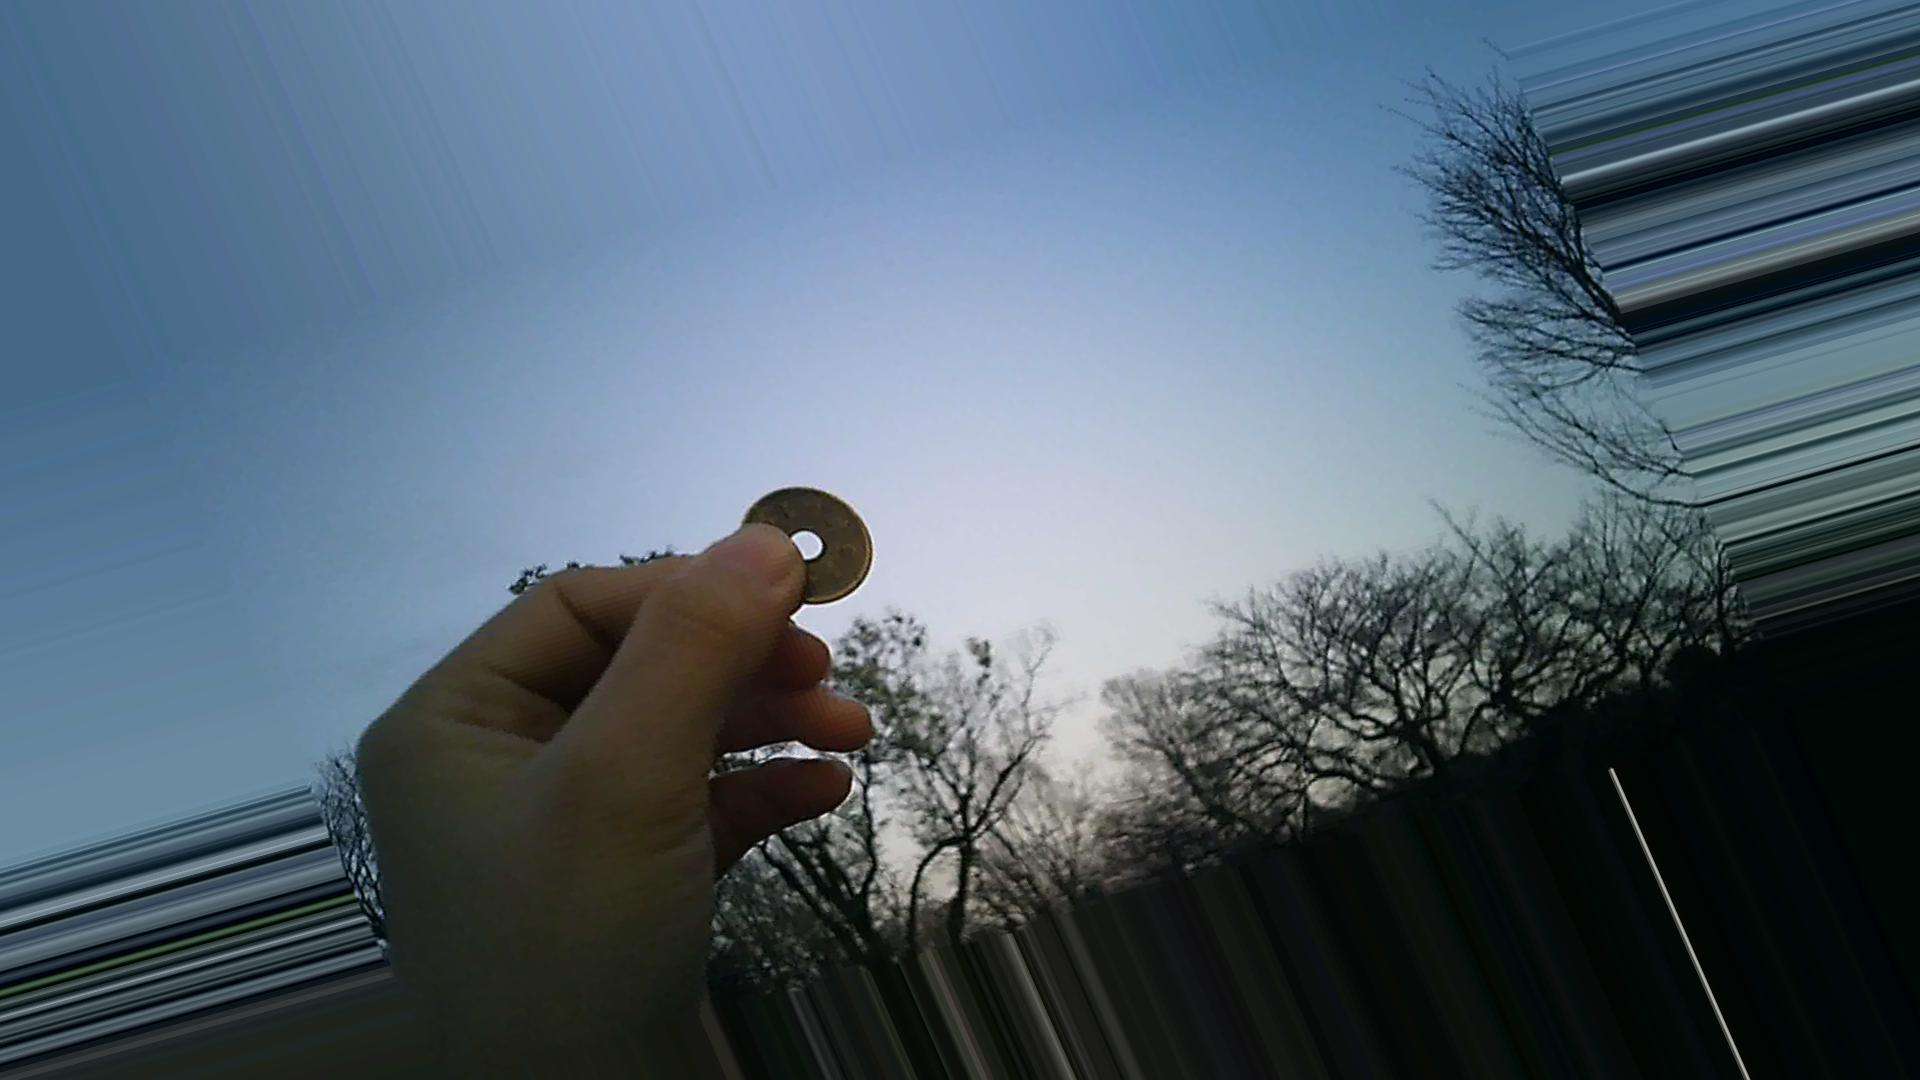5 Yen: (733, 487, 874, 611)
